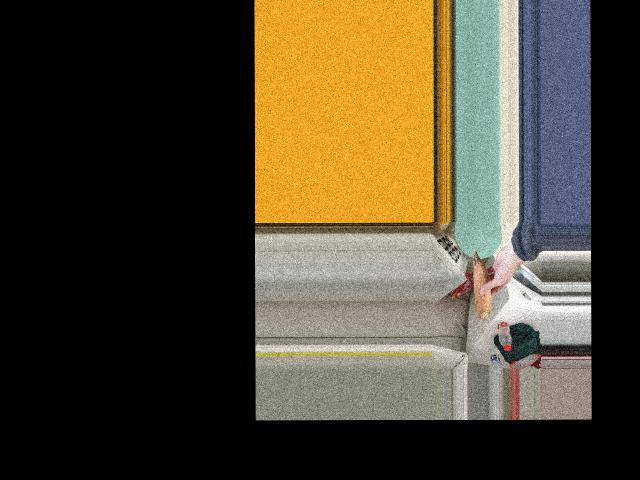sweet_potato: (471, 249, 496, 321)
